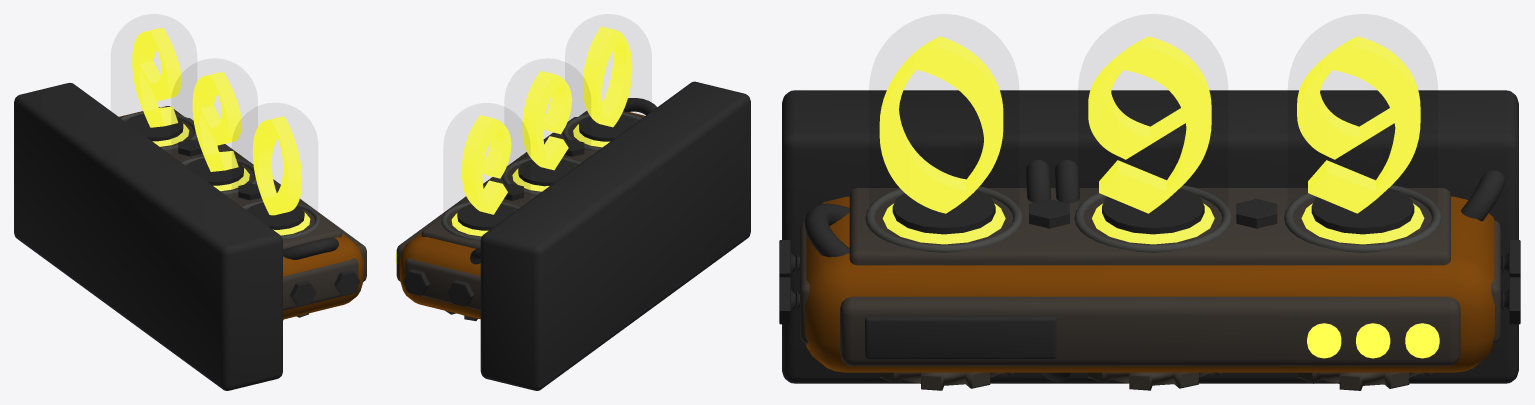
Rendered from Циферки (2).fbx.
The picture shows the model from 3 angles, left to right: view 1: azimuth 30°, elevation 25°; view 2: azimuth 150°, elevation 25°; view 3: azimuth 270°, elevation 25°; orthographic projection. The views are drawn at different scales.
Visible parts, largest first — view 1: Cube_4, Text, Cube_1, Cube_2, Cube_3, Гаечки, Cylinder_8, Cylinder_7, Cylinder_6, Torus_2_3, Cube, Torus (+1 smaller); view 2: Cube_4, Text, Cube_1, Cube_2, Cube_3, Гаечки, Cylinder_6, Cylinder_7, Cylinder_8, Cube, Torus_2, Torus_2_3 (+2 smaller); view 3: Cube_4, Cube_1, Text, Cube, Cube_2, Cube_5, Гаечки, Cylinder_6, Cylinder_7, Cylinder_8, Torus, Torus_2 (+15 smaller).
Part boxes in pixels (bbox=[...]): Cube_4: bbox=[14, 83, 282, 390]; Text: bbox=[132, 28, 301, 215]; Cube_1: bbox=[119, 107, 363, 319]; Cube_2: bbox=[120, 106, 341, 249]; Cube_3: bbox=[283, 258, 358, 310]; Гаечки: bbox=[178, 139, 360, 306]; Cylinder_8: bbox=[247, 202, 304, 229]; Cylinder_7: bbox=[186, 158, 243, 185]; Cylinder_6: bbox=[126, 113, 183, 141]; Torus_2_3: bbox=[283, 237, 338, 259]; Cube: bbox=[188, 118, 366, 281]; Torus: bbox=[242, 200, 320, 239]; Cube_4: bbox=[480, 81, 750, 390]; Text: bbox=[461, 26, 632, 214]; Cube_1: bbox=[399, 112, 644, 319]; Cube_2: bbox=[421, 111, 644, 248]; Cube_3: bbox=[405, 258, 480, 310]; Гаечки: bbox=[403, 139, 584, 306]; Cylinder_6: bbox=[457, 203, 515, 230]; Cylinder_7: bbox=[518, 159, 575, 186]; Cylinder_8: bbox=[579, 114, 636, 141]; Cube: bbox=[396, 117, 577, 281]; Torus_2: bbox=[441, 202, 520, 240]; Torus_2_3: bbox=[623, 98, 657, 115]; Cube_4: bbox=[782, 90, 1518, 383]; Cube_1: bbox=[805, 196, 1494, 372]; Text: bbox=[879, 36, 1420, 213]; Cube: bbox=[840, 296, 1460, 366]; Cube_2: bbox=[849, 188, 1450, 265]; Cube_5: bbox=[865, 317, 1056, 359]; Гаечки: bbox=[779, 199, 1520, 324]; Cylinder_6: bbox=[1311, 188, 1414, 234]; Cylinder_7: bbox=[1102, 188, 1204, 234]; Cylinder_8: bbox=[892, 190, 995, 234]; Torus: bbox=[865, 186, 1022, 252]; Torus_2: bbox=[1284, 185, 1441, 252].
Size of the model in its own units: 56.52 by 74.34 by 126.
